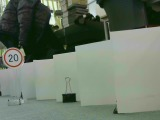speed_20: (2, 47, 24, 69)
